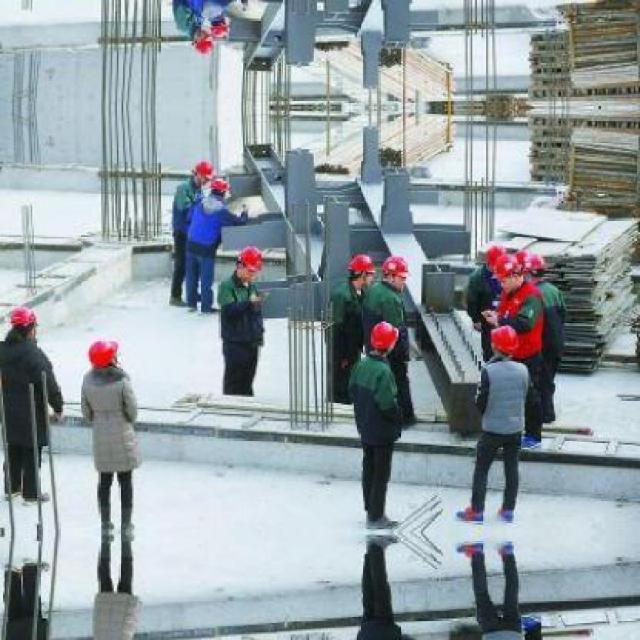helmet: (84, 331, 125, 371), (495, 250, 527, 292), (486, 322, 523, 356), (9, 300, 40, 340), (344, 251, 376, 287), (235, 241, 263, 282), (368, 320, 398, 357), (382, 252, 409, 290), (520, 251, 548, 284), (483, 242, 508, 276), (203, 175, 231, 198), (203, 15, 231, 38), (186, 30, 212, 53), (186, 160, 212, 182)
